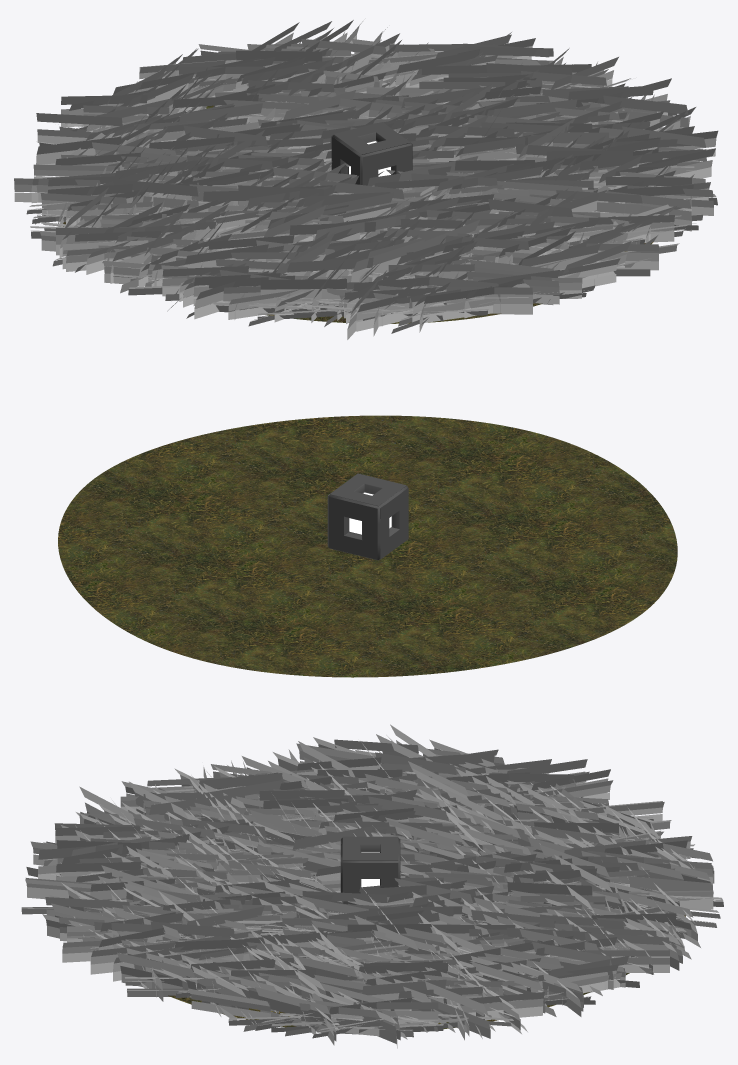
The model's file is grassEx.glb.
3 renders of one model, top to bottom at view 1: azimuth 30°, elevation 25°; view 2: azimuth 150°, elevation 25°; view 3: azimuth 270°, elevation 25°, orthographic.
Visible parts, largest first — view 1: grass, Cube; view 2: ground, Cube; view 3: grass, Cube.
Boxes of the visible parts, x1=… form: grass: x1=14, y1=20, x2=718, y2=339; Cube: x1=331, y1=122, x2=412, y2=185; ground: x1=58, y1=415, x2=677, y2=677; Cube: x1=327, y1=473, x2=408, y2=560; grass: x1=21, y1=724, x2=723, y2=1048; Cube: x1=340, y1=836, x2=400, y2=904.
Size of the model in its own units: 27.74 by 2.41 by 27.74.
3 materials, 1 textured.
